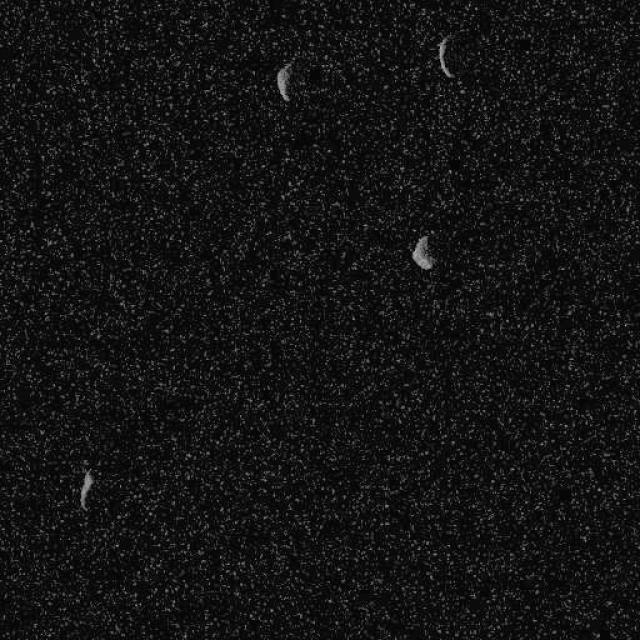D2: (410, 234, 435, 270), (435, 35, 455, 79), (77, 469, 95, 510), (275, 65, 291, 101)
